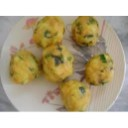bonda: (44, 46, 75, 80), (62, 80, 92, 111), (35, 16, 66, 45), (12, 51, 38, 84), (87, 55, 116, 84), (74, 16, 99, 45)
